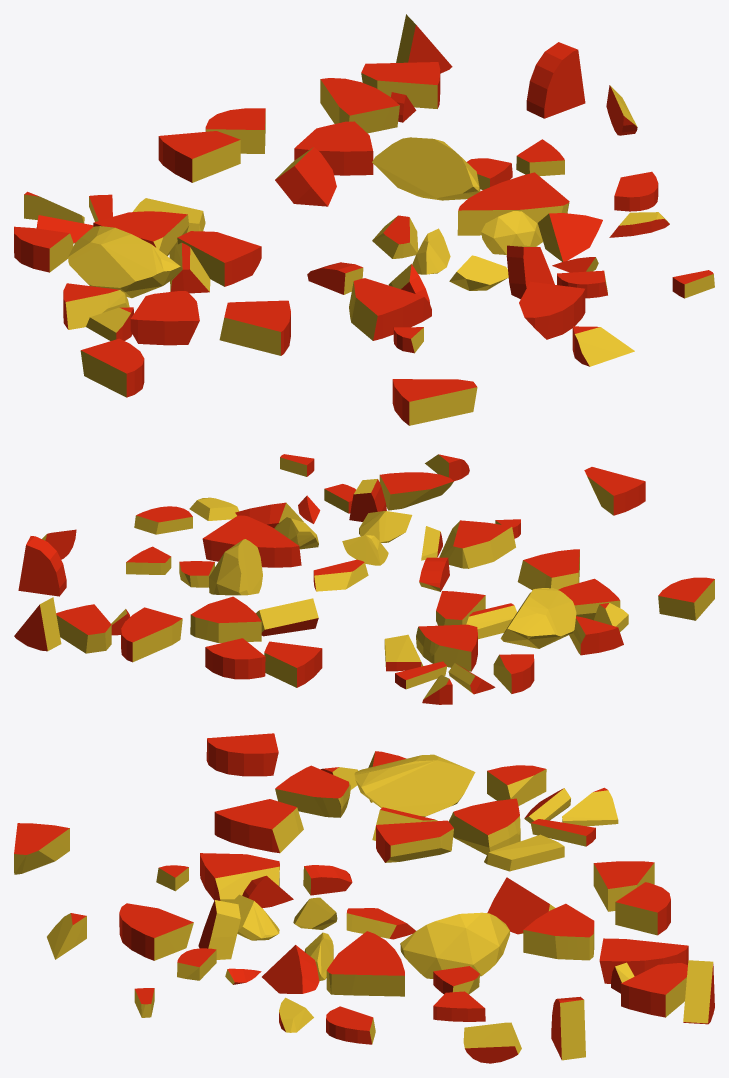
Rendered from FineGrindedFlowers.glb.
3 views of the same model, one above another, from view 1: azimuth 30°, elevation 25°; view 2: azimuth 150°, elevation 25°; view 3: azimuth 270°, elevation 25° (orthographic). The views are drawn at different scales.
Parts seen in each view (by area): view 1: Fine Grinded Flowers; view 2: Fine Grinded Flowers; view 3: Fine Grinded Flowers.
Boxes of the visible parts, x1,y1,x2,y2 form: Fine Grinded Flowers: (14,14,714,425); Fine Grinded Flowers: (14,454,714,704); Fine Grinded Flowers: (14,733,714,1063).
Size of the model in its own units: 0.9506 by 0.077 by 0.9072.
